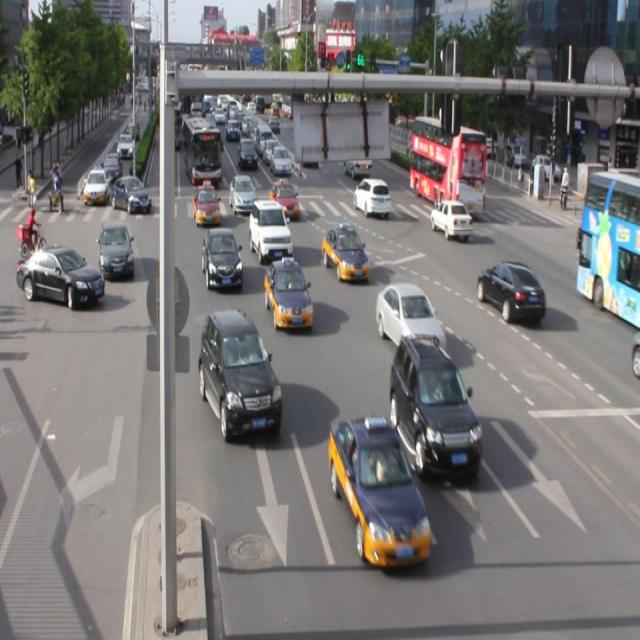car: (330, 416, 431, 565), (388, 334, 482, 479), (200, 310, 282, 439), (375, 282, 445, 358), (476, 260, 545, 322), (263, 258, 313, 331), (321, 224, 370, 282), (249, 198, 292, 262), (202, 226, 243, 292), (98, 220, 135, 281), (429, 198, 472, 238)
van: (576, 171, 640, 327)
